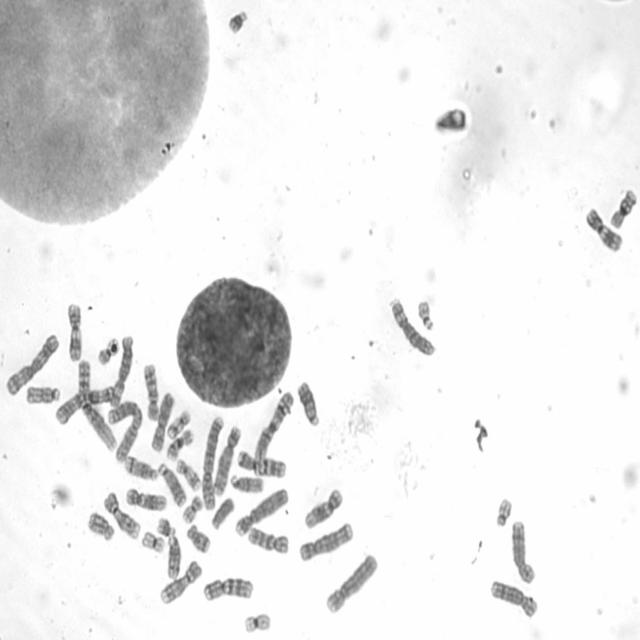A1: (76, 354, 118, 454), (252, 388, 294, 462)
A2: (105, 398, 143, 462), (200, 412, 224, 512)
A3: (3, 330, 61, 398), (53, 386, 116, 426)
B4: (322, 550, 380, 616), (232, 484, 290, 538)
B5: (296, 519, 354, 563), (210, 422, 242, 496)
C10: (246, 524, 290, 555), (141, 360, 161, 421)
C11: (582, 202, 624, 254), (65, 300, 83, 363)
C12: (302, 485, 344, 531), (124, 484, 167, 512)
C6: (387, 294, 436, 358), (106, 332, 135, 409)
C7: (234, 446, 287, 478), (201, 574, 254, 602)
C8: (487, 576, 540, 620), (509, 516, 537, 584)
C9: (157, 558, 203, 606), (101, 490, 141, 540)
D13: (156, 461, 187, 508), (295, 378, 321, 428)
D14: (122, 452, 159, 482), (165, 531, 182, 580)
D15: (23, 383, 62, 406), (228, 471, 264, 494)
E16: (607, 186, 639, 230), (164, 426, 195, 461)
E17: (174, 456, 202, 493), (165, 407, 192, 440)
E18: (85, 508, 116, 542), (184, 521, 212, 554)
F19: (241, 610, 273, 634), (140, 528, 166, 554)
F20: (179, 491, 204, 525), (95, 335, 120, 367)
G21: (226, 6, 249, 34), (154, 514, 178, 538)
G22: (415, 295, 435, 332), (493, 494, 514, 529)
X: (148, 389, 176, 453)
Y: (209, 494, 236, 532)
